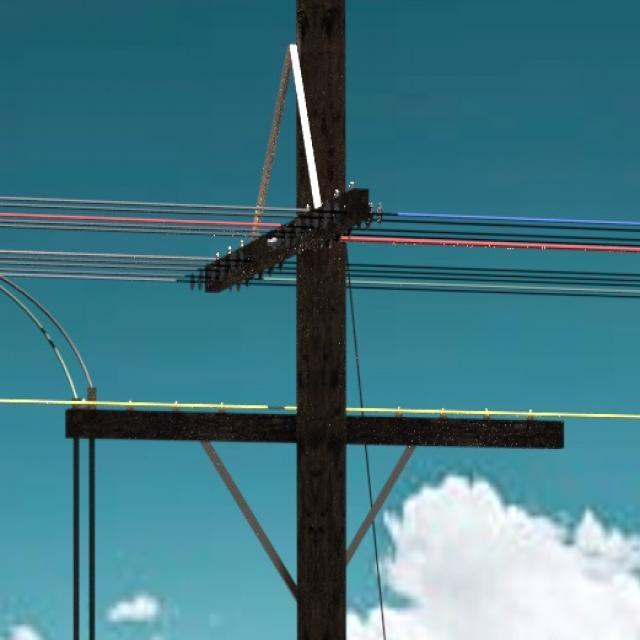crossarm: (64, 408, 565, 450), (183, 190, 372, 294)
pole: (296, 0, 349, 640)
